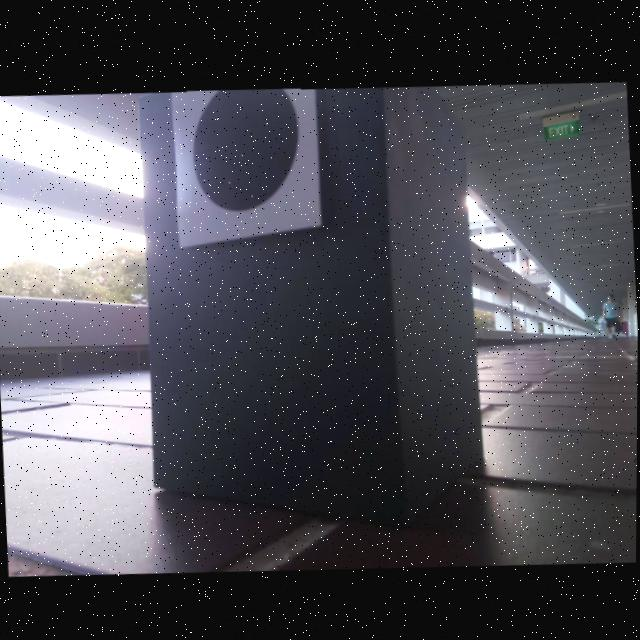CIRCLE: (191, 88, 302, 216)
